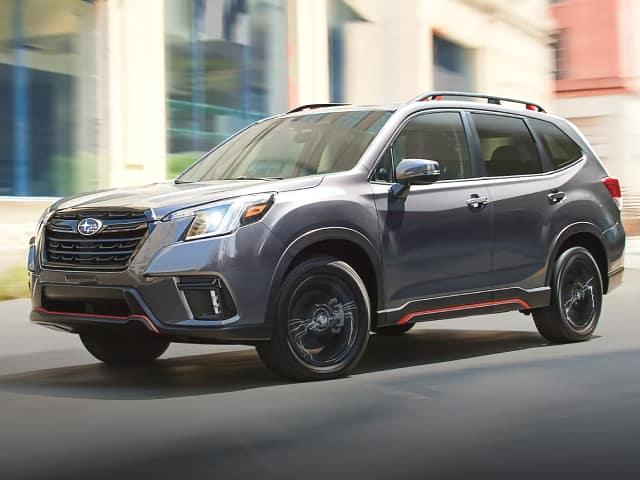subaru: (71, 212, 112, 241)
